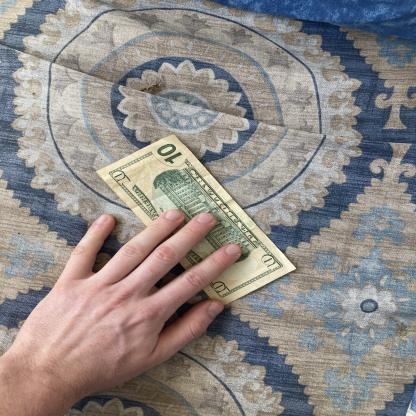ten-back: (96, 134, 295, 309)
